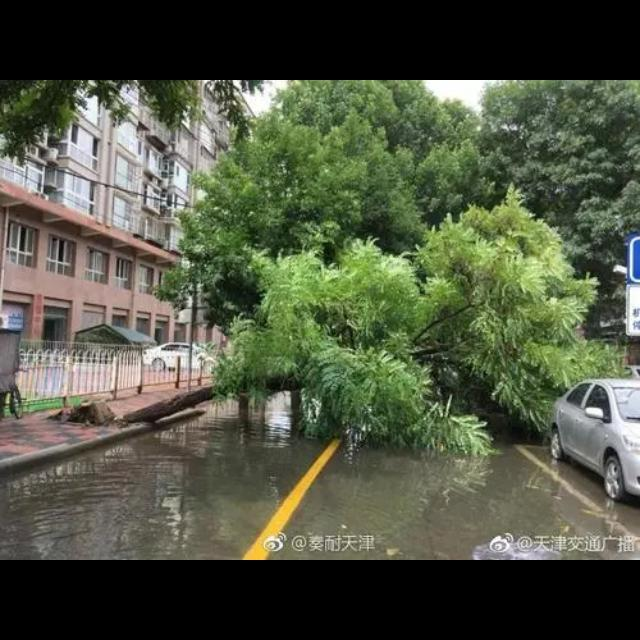fallen_tree: (122, 205, 598, 441)
